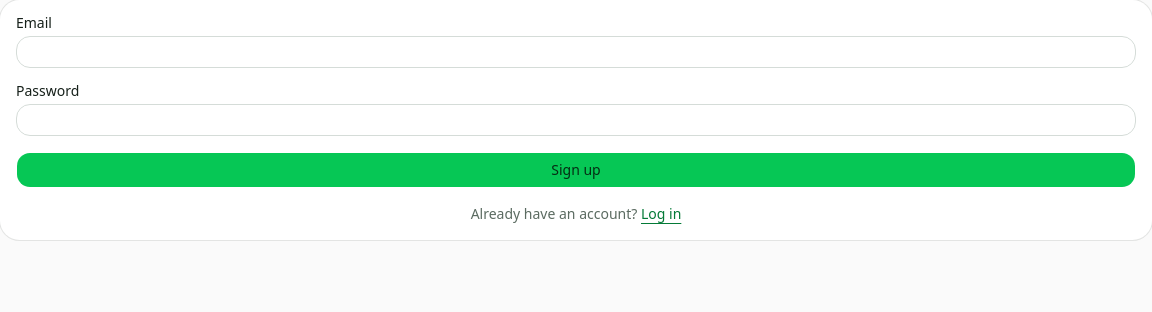
it: 422 invalid_password shows a clear message and stays on the form
Type "new@x.io" into the field labelled "Email" at (576, 52), box [16,36,1136,68]
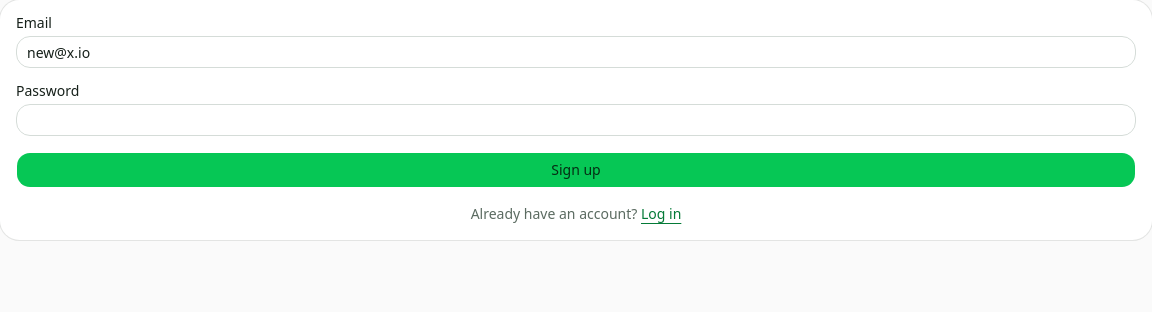
Type "correct-horse-battery" into the password field labelled "Password" at (576, 120), box [16,104,1136,136]
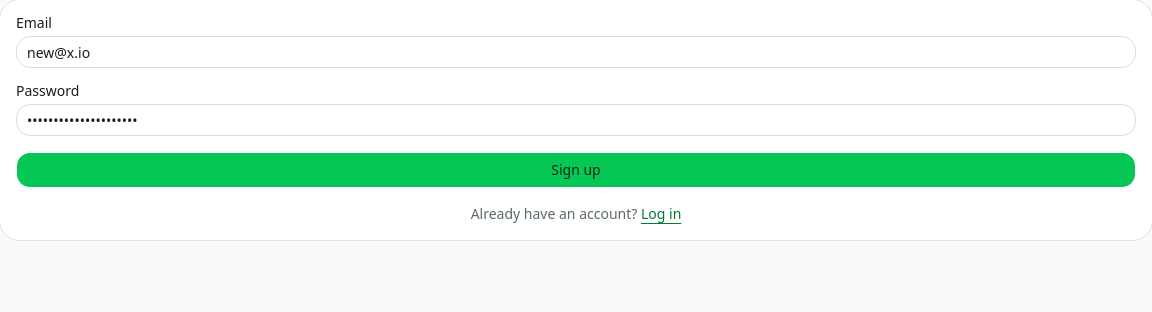
Click the button "Sign up" at (576, 170), box [16,152,1136,188]
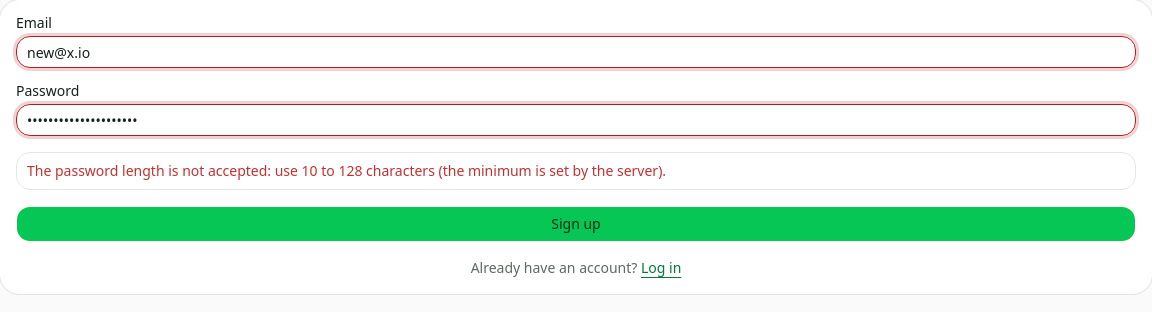
Now the message shows "10 to 128 characters", box [27,161,666,180]
